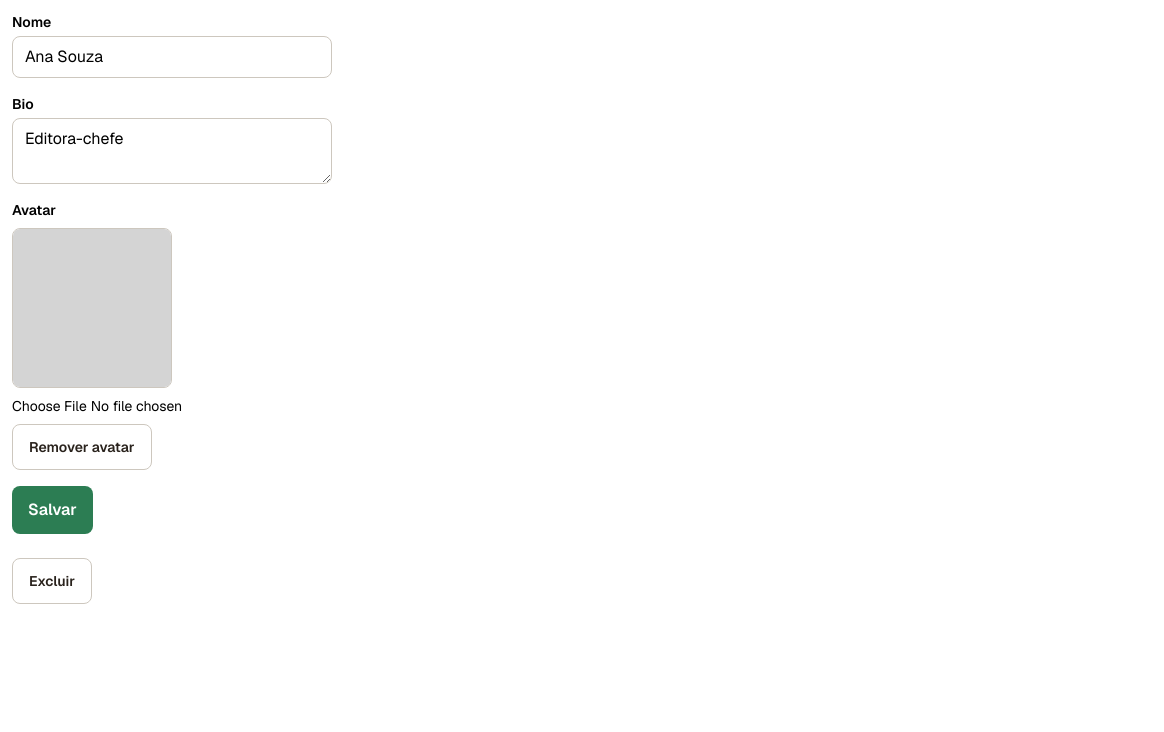
Scenario: AuthorDetail › editar com sucesso dispara o toast "Autor salvo."
Replace the text in the field labelled "Nome" with "Ana Souza Lima" at (172, 57), box [12,36,332,78]
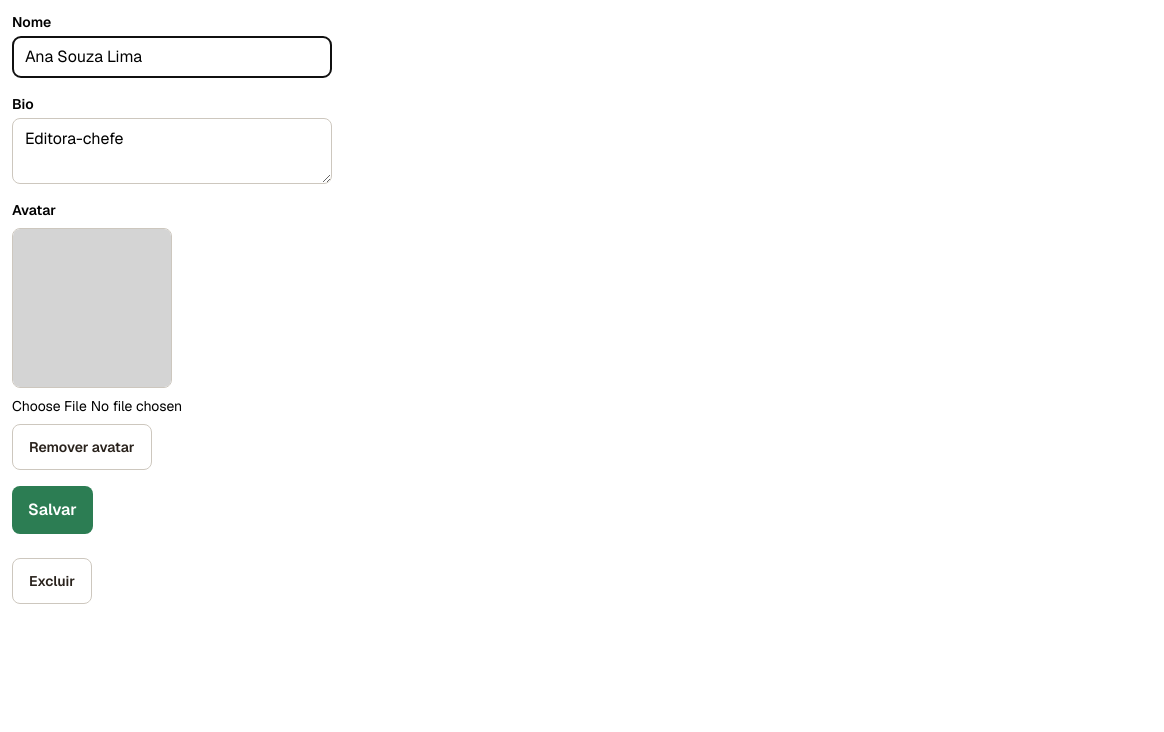
Click the button "Salvar" at (52, 510), box [12,486,93,534]
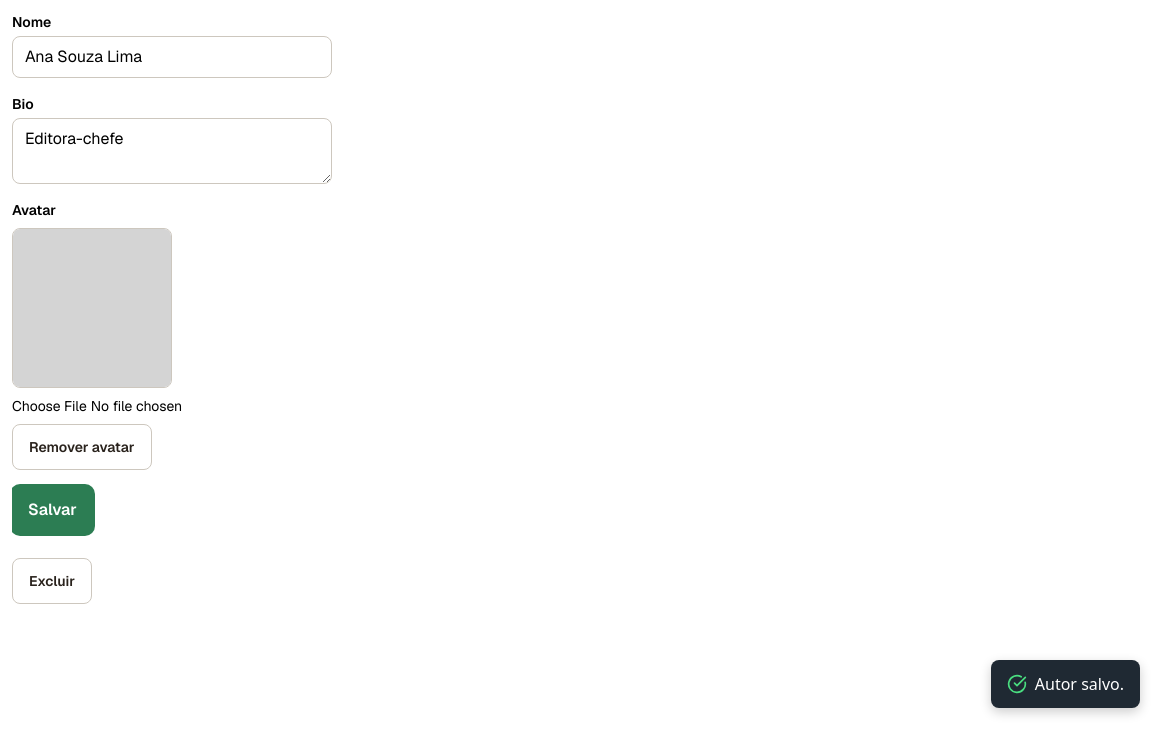
Result: the text "Autor salvo." is shown at [1035,672,1124,696]
